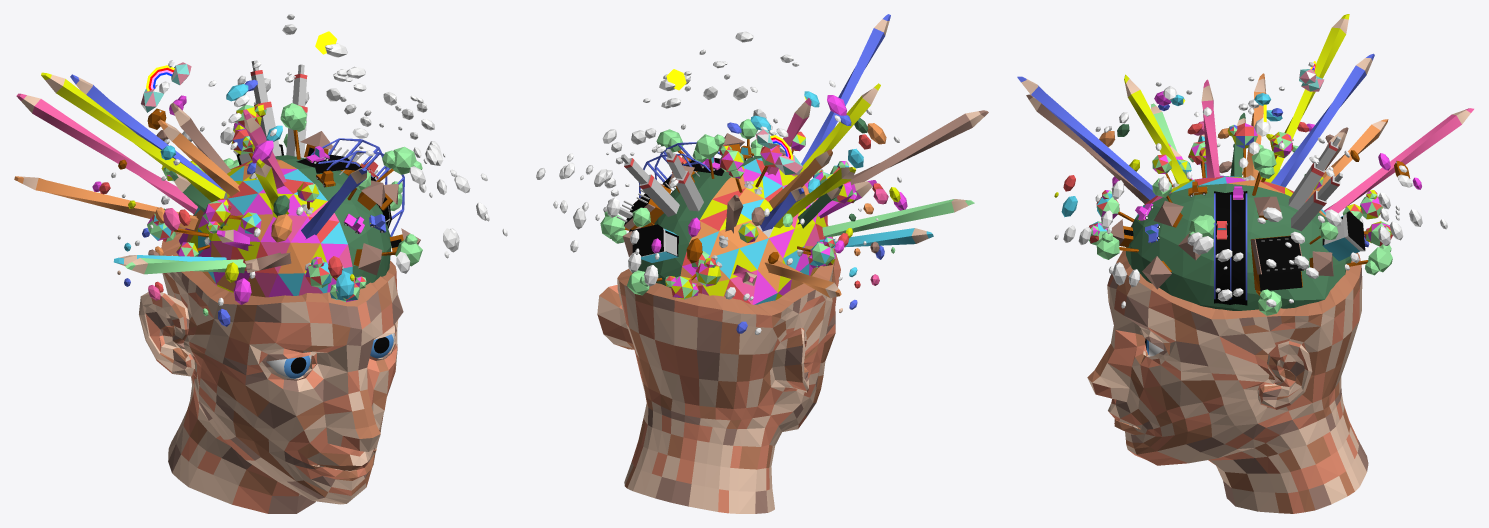
The picture shows the model from 3 angles, left to right: view 1: azimuth 30°, elevation 25°; view 2: azimuth 150°, elevation 25°; view 3: azimuth 270°, elevation 25°; orthographic projection. The views are drawn at different scales.
Parts seen in each view (by area): view 1: cabeza5__Cara de HeliosinitialShadingGroup_0, cabeza5_19 - Default_0, cabeza5_18 - Default_0, cabeza5_14 - Default_0, cabeza5_10 - Default_0, cabeza5_05 - Default_0, cabeza5_17 - Default_0, cabeza5_15 - Default_0, cabeza5_07 - Default_0, cabeza5_12 - Default_0, cabeza5_13 - Default_0, cabeza5_11 - Default_0 (+5 smaller); view 2: cabeza5__Cara de HeliosinitialShadingGroup_0, cabeza5_19 - Default_0, cabeza5_18 - Default_0, cabeza5_14 - Default_0, cabeza5_07 - Default_0, cabeza5_05 - Default_0, cabeza5_10 - Default_0, cabeza5_17 - Default_0, cabeza5_11 - Default_0, cabeza5_12 - Default_0, cabeza5_16 - Default_0, cabeza5_13 - Default_0 (+6 smaller); view 3: cabeza5__Cara de HeliosinitialShadingGroup_0, cabeza5_18 - Default_0, cabeza5_16 - Default_0, cabeza5_19 - Default_0, cabeza5_14 - Default_0, cabeza5_10 - Default_0, cabeza5_04 - Default_0, cabeza5_07 - Default_0, cabeza5_13 - Default_0, cabeza5_05 - Default_0, cabeza5_15 - Default_0, cabeza5_06 - Default_0 (+6 smaller).
Part boxes in pixels (left/top/right/bottom): cabeza5__Cara de HeliosinitialShadingGroup_0: left=21, top=74, right=402, bottom=504; cabeza5_19 - Default_0: left=145, top=271, right=397, bottom=513; cabeza5_18 - Default_0: left=159, top=226, right=396, bottom=497; cabeza5_14 - Default_0: left=146, top=102, right=420, bottom=513; cabeza5_10 - Default_0: left=111, top=14, right=507, bottom=306; cabeza5_05 - Default_0: left=41, top=72, right=370, bottom=292; cabeza5_17 - Default_0: left=14, top=119, right=320, bottom=297; cabeza5_15 - Default_0: left=16, top=93, right=352, bottom=300; cabeza5_07 - Default_0: left=125, top=103, right=422, bottom=316; cabeza5_12 - Default_0: left=92, top=95, right=364, bottom=304; cabeza5_13 - Default_0: left=70, top=74, right=404, bottom=326; cabeza5_11 - Default_0: left=113, top=84, right=358, bottom=300; cabeza5__Cara de HeliosinitialShadingGroup_0: left=597, top=19, right=983, bottom=513; cabeza5_19 - Default_0: left=597, top=251, right=840, bottom=513; cabeza5_18 - Default_0: left=599, top=224, right=835, bottom=488; cabeza5_14 - Default_0: left=622, top=110, right=988, bottom=513; cabeza5_07 - Default_0: left=600, top=119, right=974, bottom=299; cabeza5_05 - Default_0: left=665, top=83, right=900, bottom=299; cabeza5_10 - Default_0: left=536, top=31, right=901, bottom=334; cabeza5_17 - Default_0: left=680, top=123, right=886, bottom=297; cabeza5_11 - Default_0: left=641, top=91, right=933, bottom=304; cabeza5_12 - Default_0: left=651, top=95, right=907, bottom=304; cabeza5_16 - Default_0: left=633, top=118, right=868, bottom=287; cabeza5_13 - Default_0: left=638, top=14, right=890, bottom=333; cabeza5__Cara de HeliosinitialShadingGroup_0: left=1021, top=18, right=1470, bottom=513; cabeza5_18 - Default_0: left=1087, top=250, right=1361, bottom=513; cabeza5_16 - Default_0: left=1117, top=113, right=1351, bottom=310; cabeza5_19 - Default_0: left=1092, top=274, right=1359, bottom=513; cabeza5_14 - Default_0: left=1026, top=94, right=1368, bottom=510; cabeza5_10 - Default_0: left=1054, top=76, right=1447, bottom=308; cabeza5_04 - Default_0: left=1124, top=191, right=1365, bottom=305; cabeza5_07 - Default_0: left=1089, top=103, right=1392, bottom=315; cabeza5_13 - Default_0: left=1017, top=53, right=1374, bottom=300; cabeza5_05 - Default_0: left=1054, top=14, right=1391, bottom=243; cabeza5_15 - Default_0: left=1131, top=79, right=1473, bottom=226; cabeza5_06 - Default_0: left=1063, top=122, right=1392, bottom=246.
Bounding box in the file's own units: 18.08 × 20.58 × 20.18.
